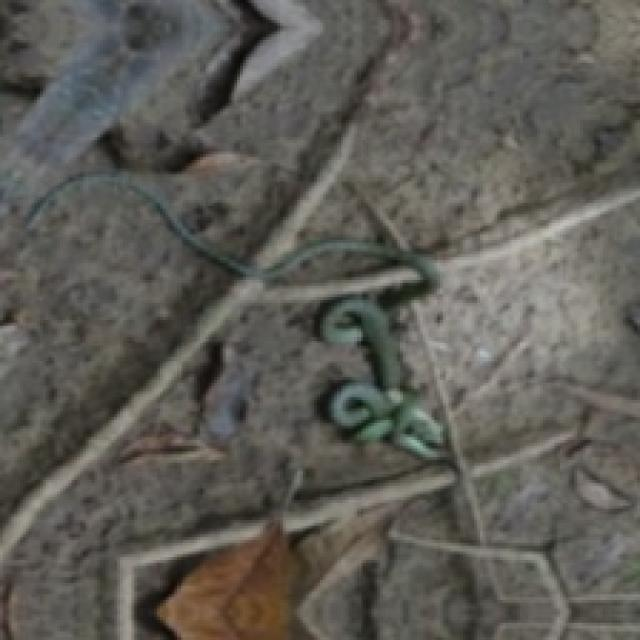paradise tree snake: (31, 171, 443, 457)
